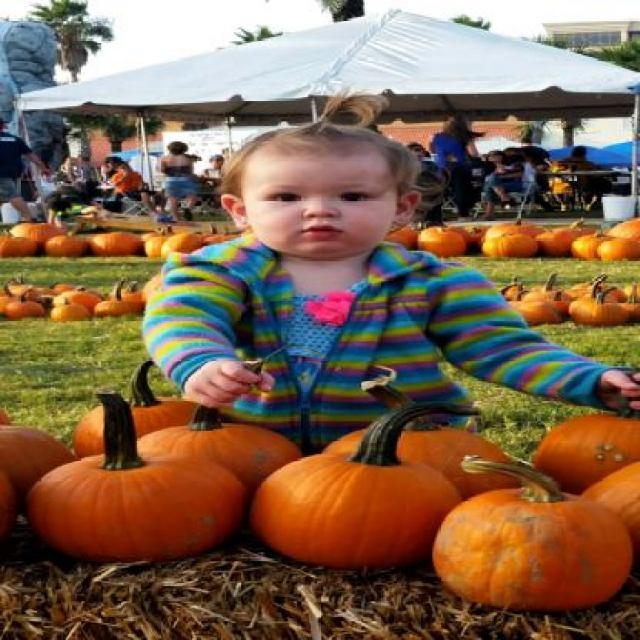Pumpkin: (0, 355, 638, 618), (0, 207, 638, 261), (500, 272, 640, 328), (0, 279, 151, 321)
